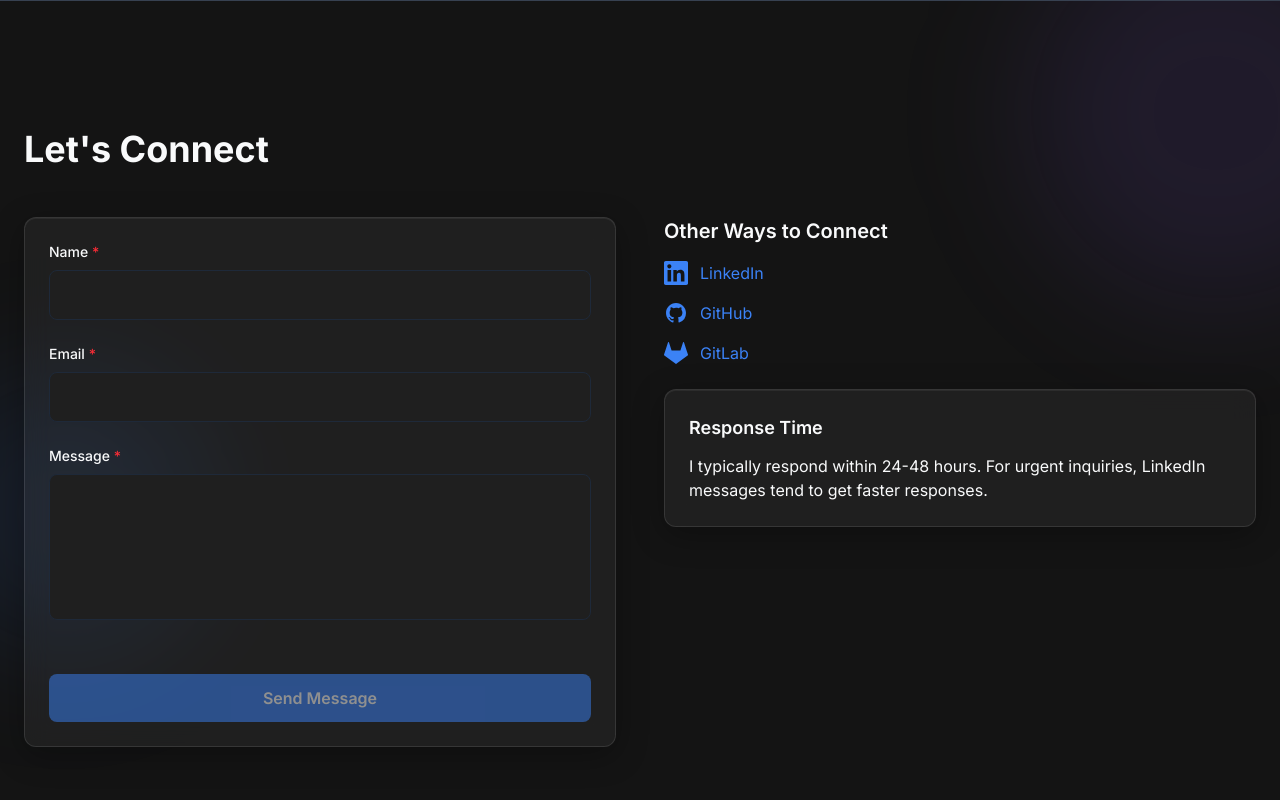
Test: Contact › validates name field
Type "A" into the field labelled "Name *" at (320, 295), box [49,270,591,320]
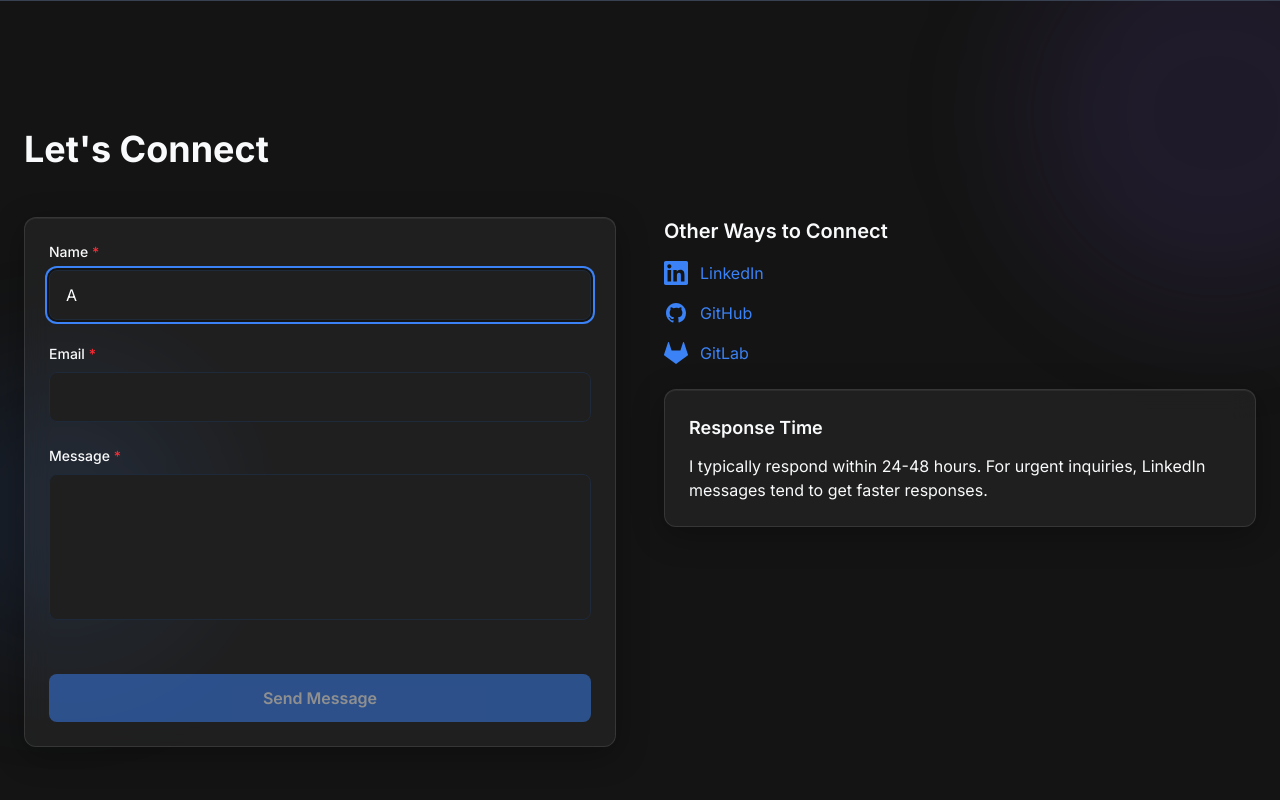
Press Tab
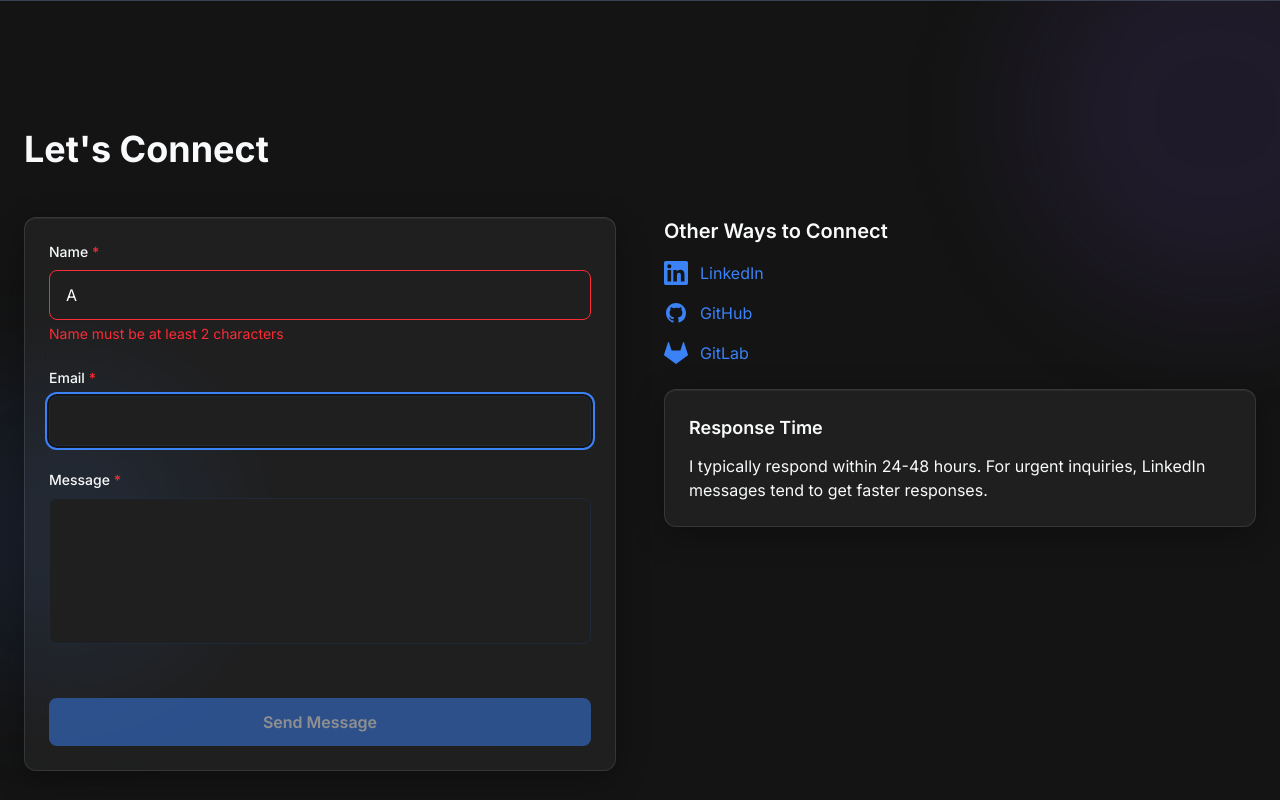
expect the text "Name must be at least 2 characters" is shown: met, box [49,325,284,342]
